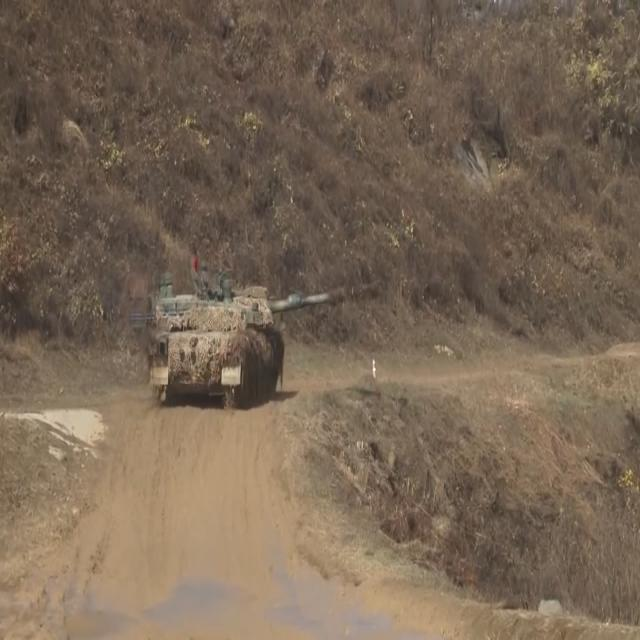korea tank: (129, 251, 387, 409)
